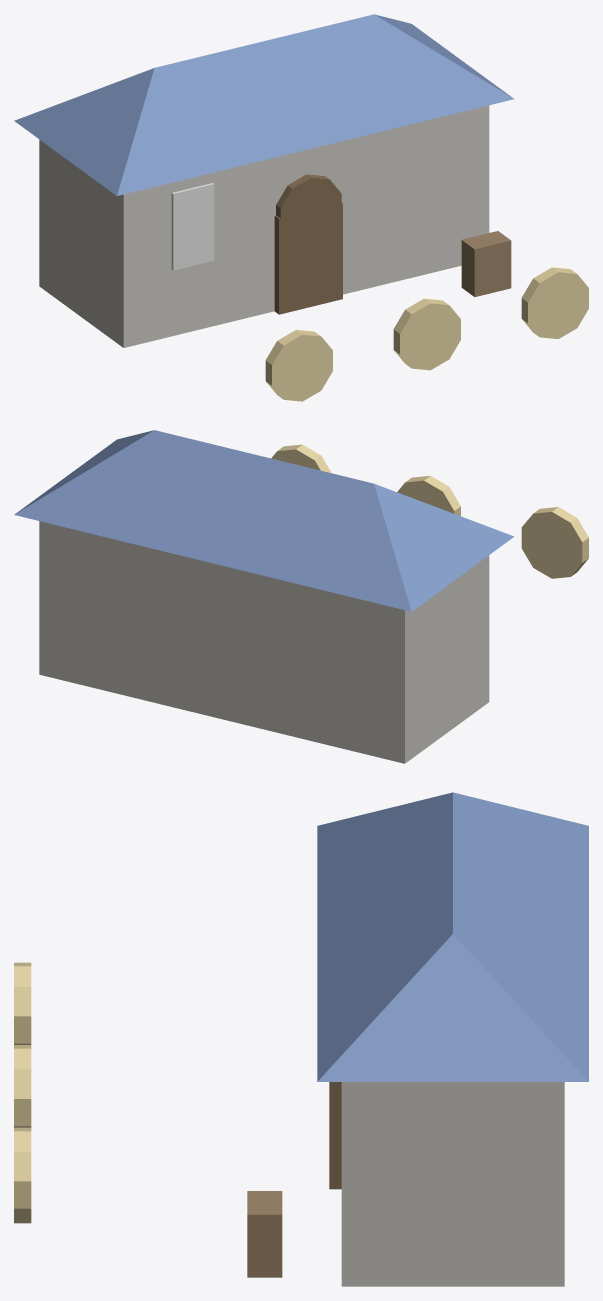
3 renders of one model, top to bottom at view 1: azimuth 30°, elevation 25°; view 2: azimuth 150°, elevation 25°; view 3: azimuth 270°, elevation 25°, orthographic. The views are drawn at different scales.
Visible parts, largest first — view 1: body; view 2: body; view 3: body.
Part boxes in pixels (x1,y1,x2,y2): body: [14, 14, 588, 401]; body: [14, 430, 588, 763]; body: [14, 792, 588, 1286].
Bounding box in the file's own units: 8.7 × 4.84 × 8.25.
